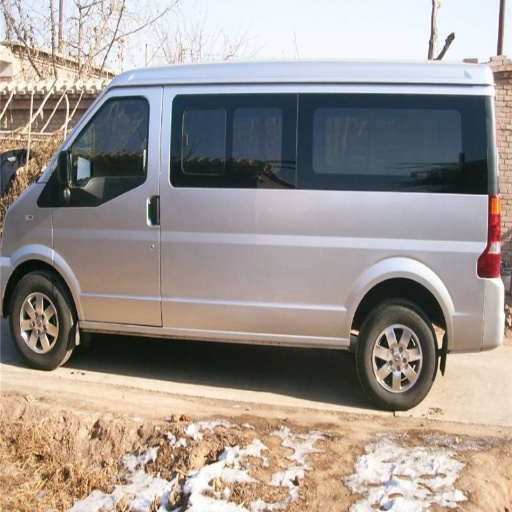back_left_light: (477, 196, 500, 278)
trunk: (299, 235, 499, 348), (403, 196, 477, 226)
